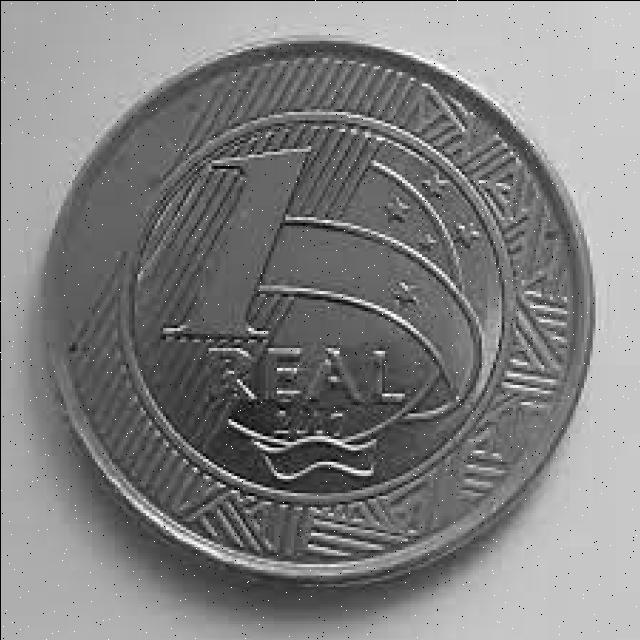1 real: (44, 46, 592, 582)
